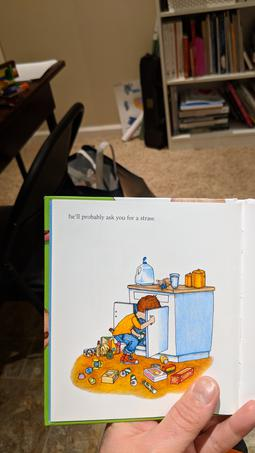text block: (60, 205, 159, 229)
